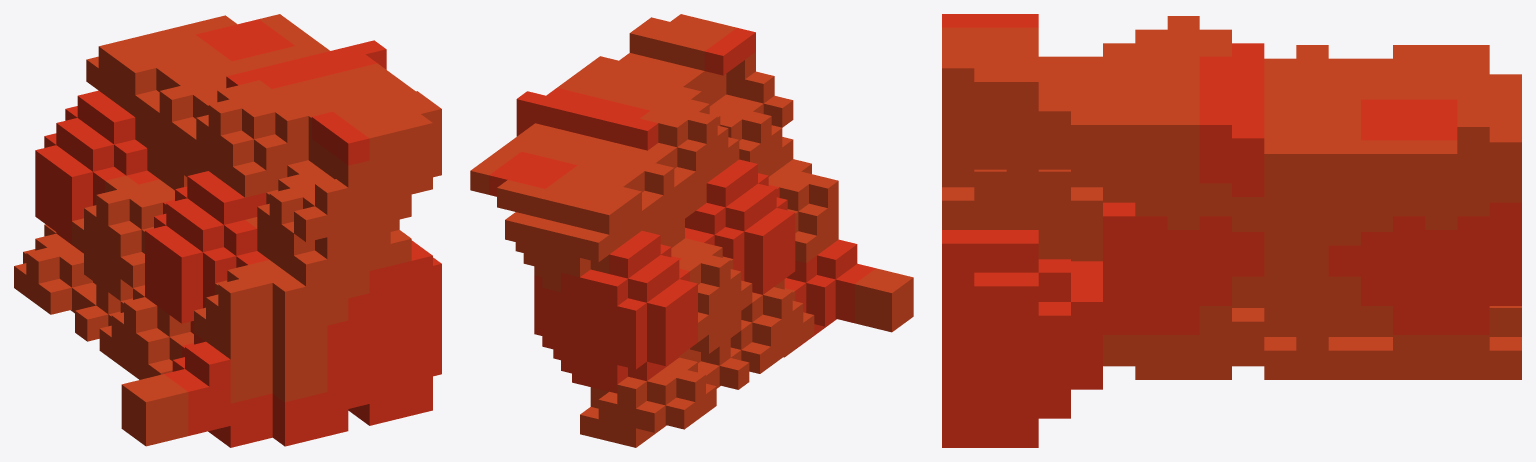
The model's file is exite1 (stone2).obj.
3 renders of one model, left to right at view 1: azimuth 30°, elevation 25°; view 2: azimuth 150°, elevation 25°; view 3: azimuth 270°, elevation 25°, orthographic. The views are drawn at different scales.
Bounding box in the file's own units: 1.6 × 1.3 × 1.8.
Materials: 1 (1 with a texture image).
